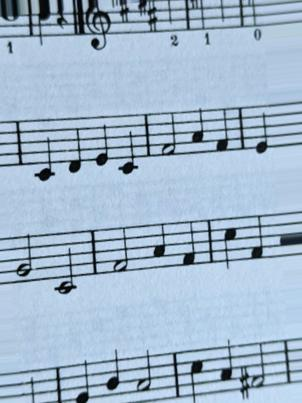note: (30, 116, 59, 186), (116, 111, 140, 180), (102, 346, 126, 402), (186, 344, 208, 402), (215, 337, 236, 397), (147, 218, 169, 275), (176, 218, 199, 272), (67, 114, 86, 177), (252, 101, 272, 158), (92, 113, 112, 170), (221, 214, 240, 272), (71, 358, 96, 402), (188, 102, 208, 157), (248, 212, 268, 265), (214, 105, 233, 158)
